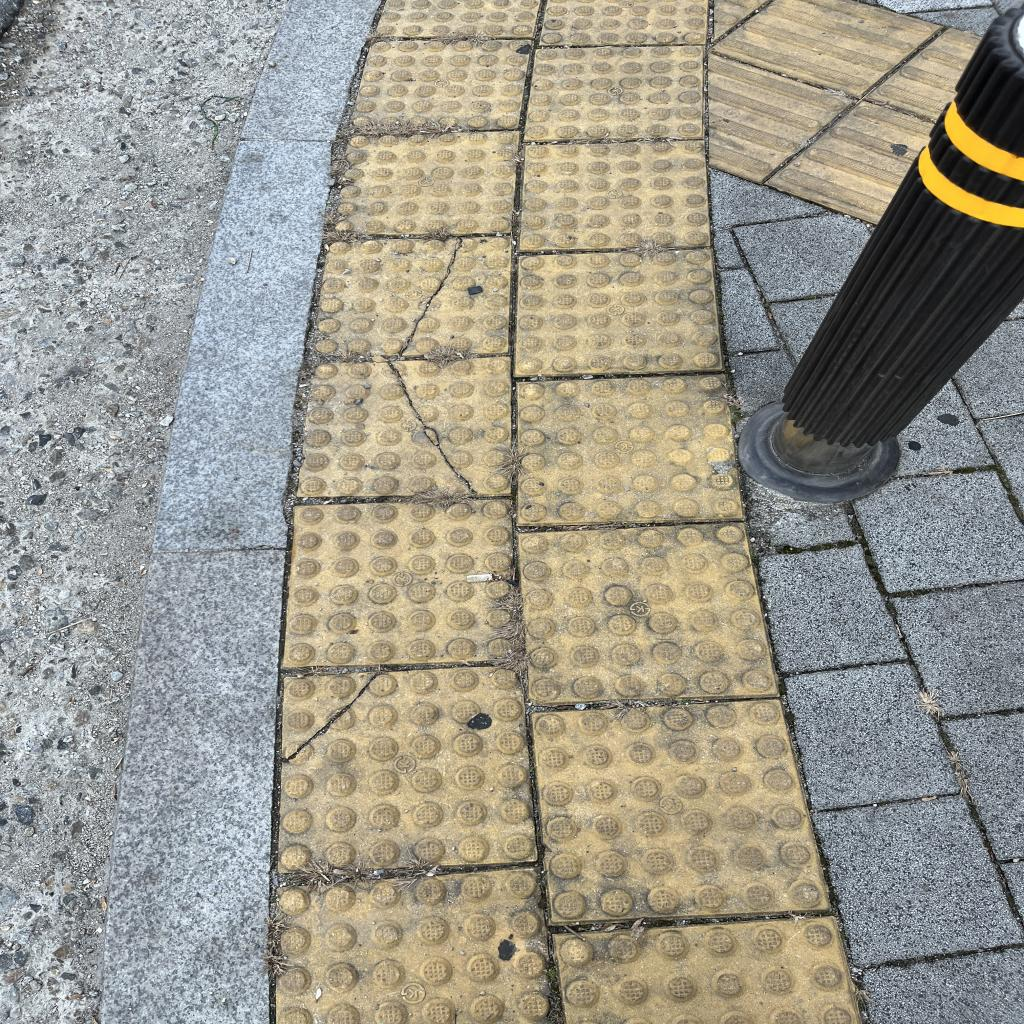Stop block broken: (298, 358, 510, 494), (310, 235, 513, 354)
Stop block normal: (518, 522, 779, 701), (281, 500, 518, 663), (516, 375, 744, 523), (516, 141, 712, 249), (349, 40, 532, 129)
